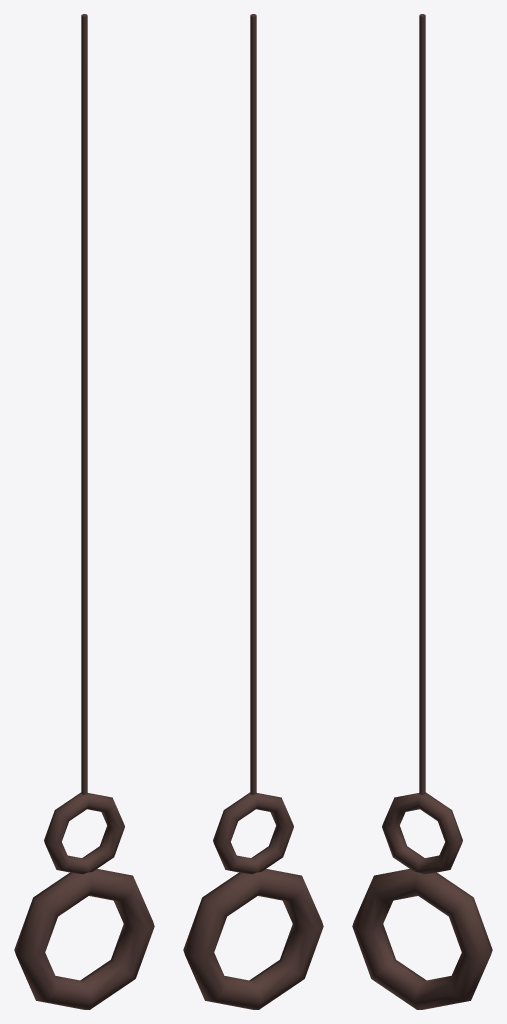
Rendered from dreamcatcher_004.fbx.
3 renders of one model, left to right at view 1: azimuth 30°, elevation 25°; view 2: azimuth 210°, elevation 25°; view 3: azimuth 330°, elevation 25°, orthographic.
Parts seen in each view (by area): view 1: dreamcatcher.004; view 2: dreamcatcher.004; view 3: dreamcatcher.004.
Part boxes in pixels (x1,y1,x2,y2): dreamcatcher.004: (14,14,154,1009); dreamcatcher.004: (183,14,323,1009); dreamcatcher.004: (352,14,492,1009).
Bounding box in the file's own units: 15.57 × 108 × 3.11.
